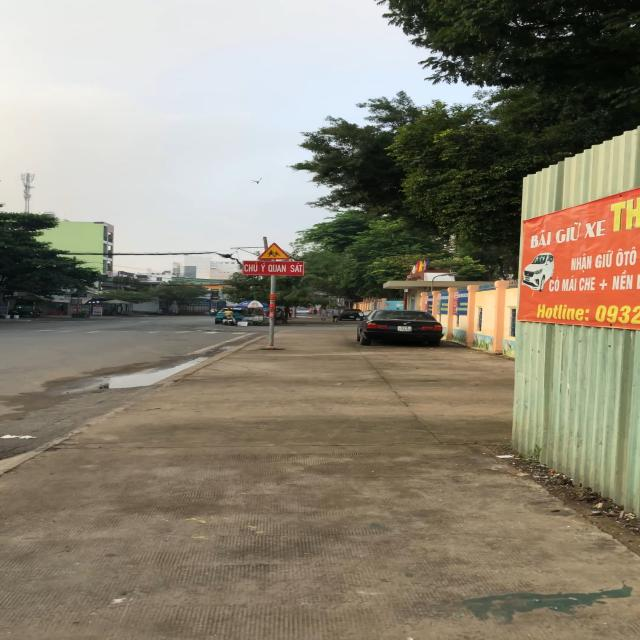Bien bao tre em: (255, 242, 292, 260)
